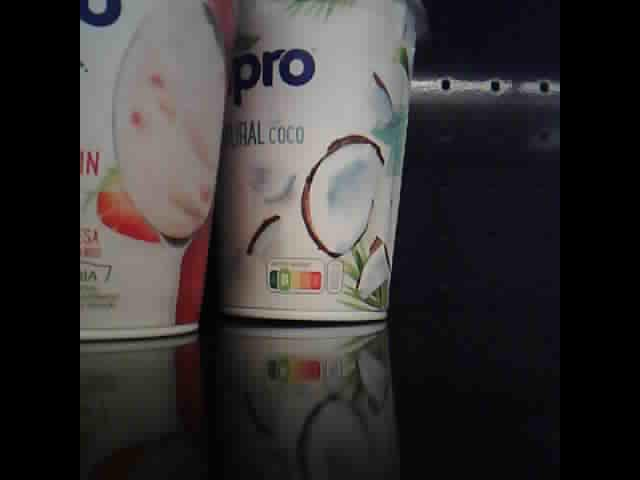alpro: (217, 1, 428, 322), (79, 1, 244, 343)
